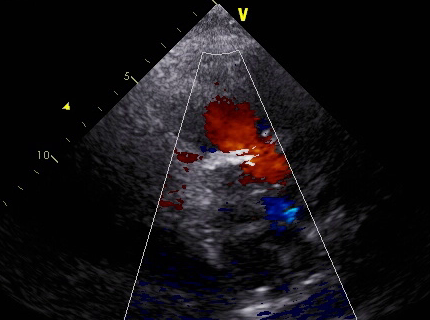PR: (207, 100, 289, 181)
